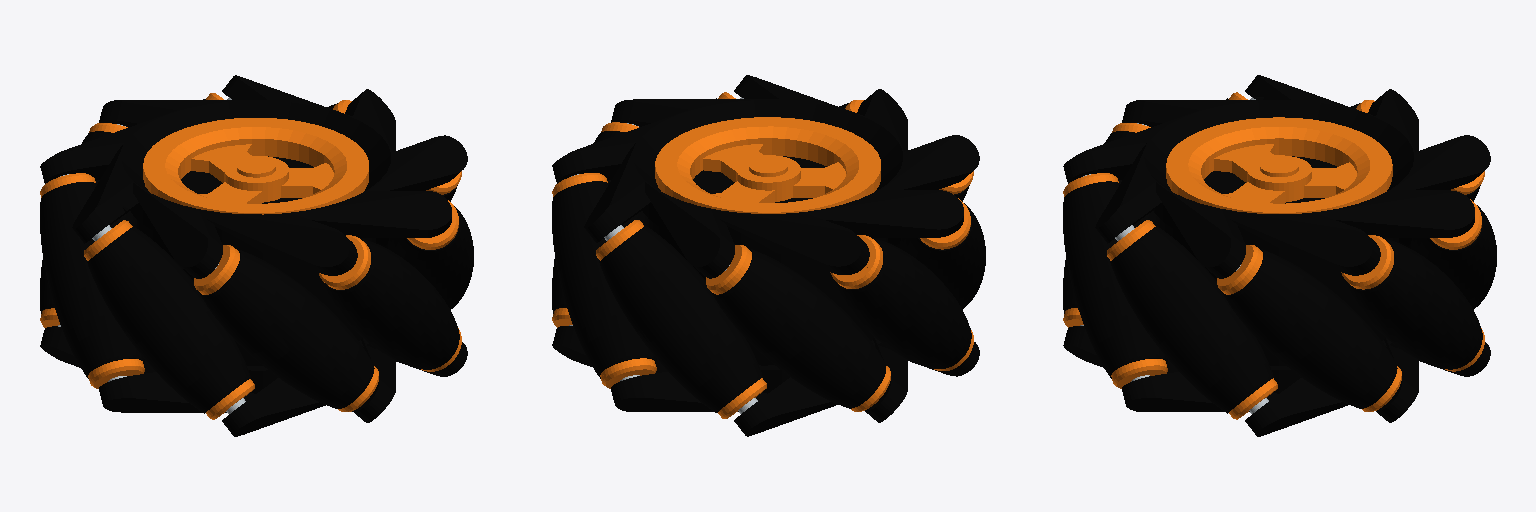
The model's file is meka_R.obj.
3 renders of one model, left to right at view 1: azimuth 30°, elevation 25°; view 2: azimuth 150°, elevation 25°; view 3: azimuth 270°, elevation 25°, orthographic.
Parts seen in each view (by area): view 1: meca_R; view 2: meca_R; view 3: meca_R.
Part boxes in pixels (bbox=[...]): meca_R: bbox=[40, 75, 473, 436]; meca_R: bbox=[552, 75, 985, 436]; meca_R: bbox=[1063, 75, 1496, 436].
Size of the model in its own units: 0.0999 by 0.05 by 0.0997.